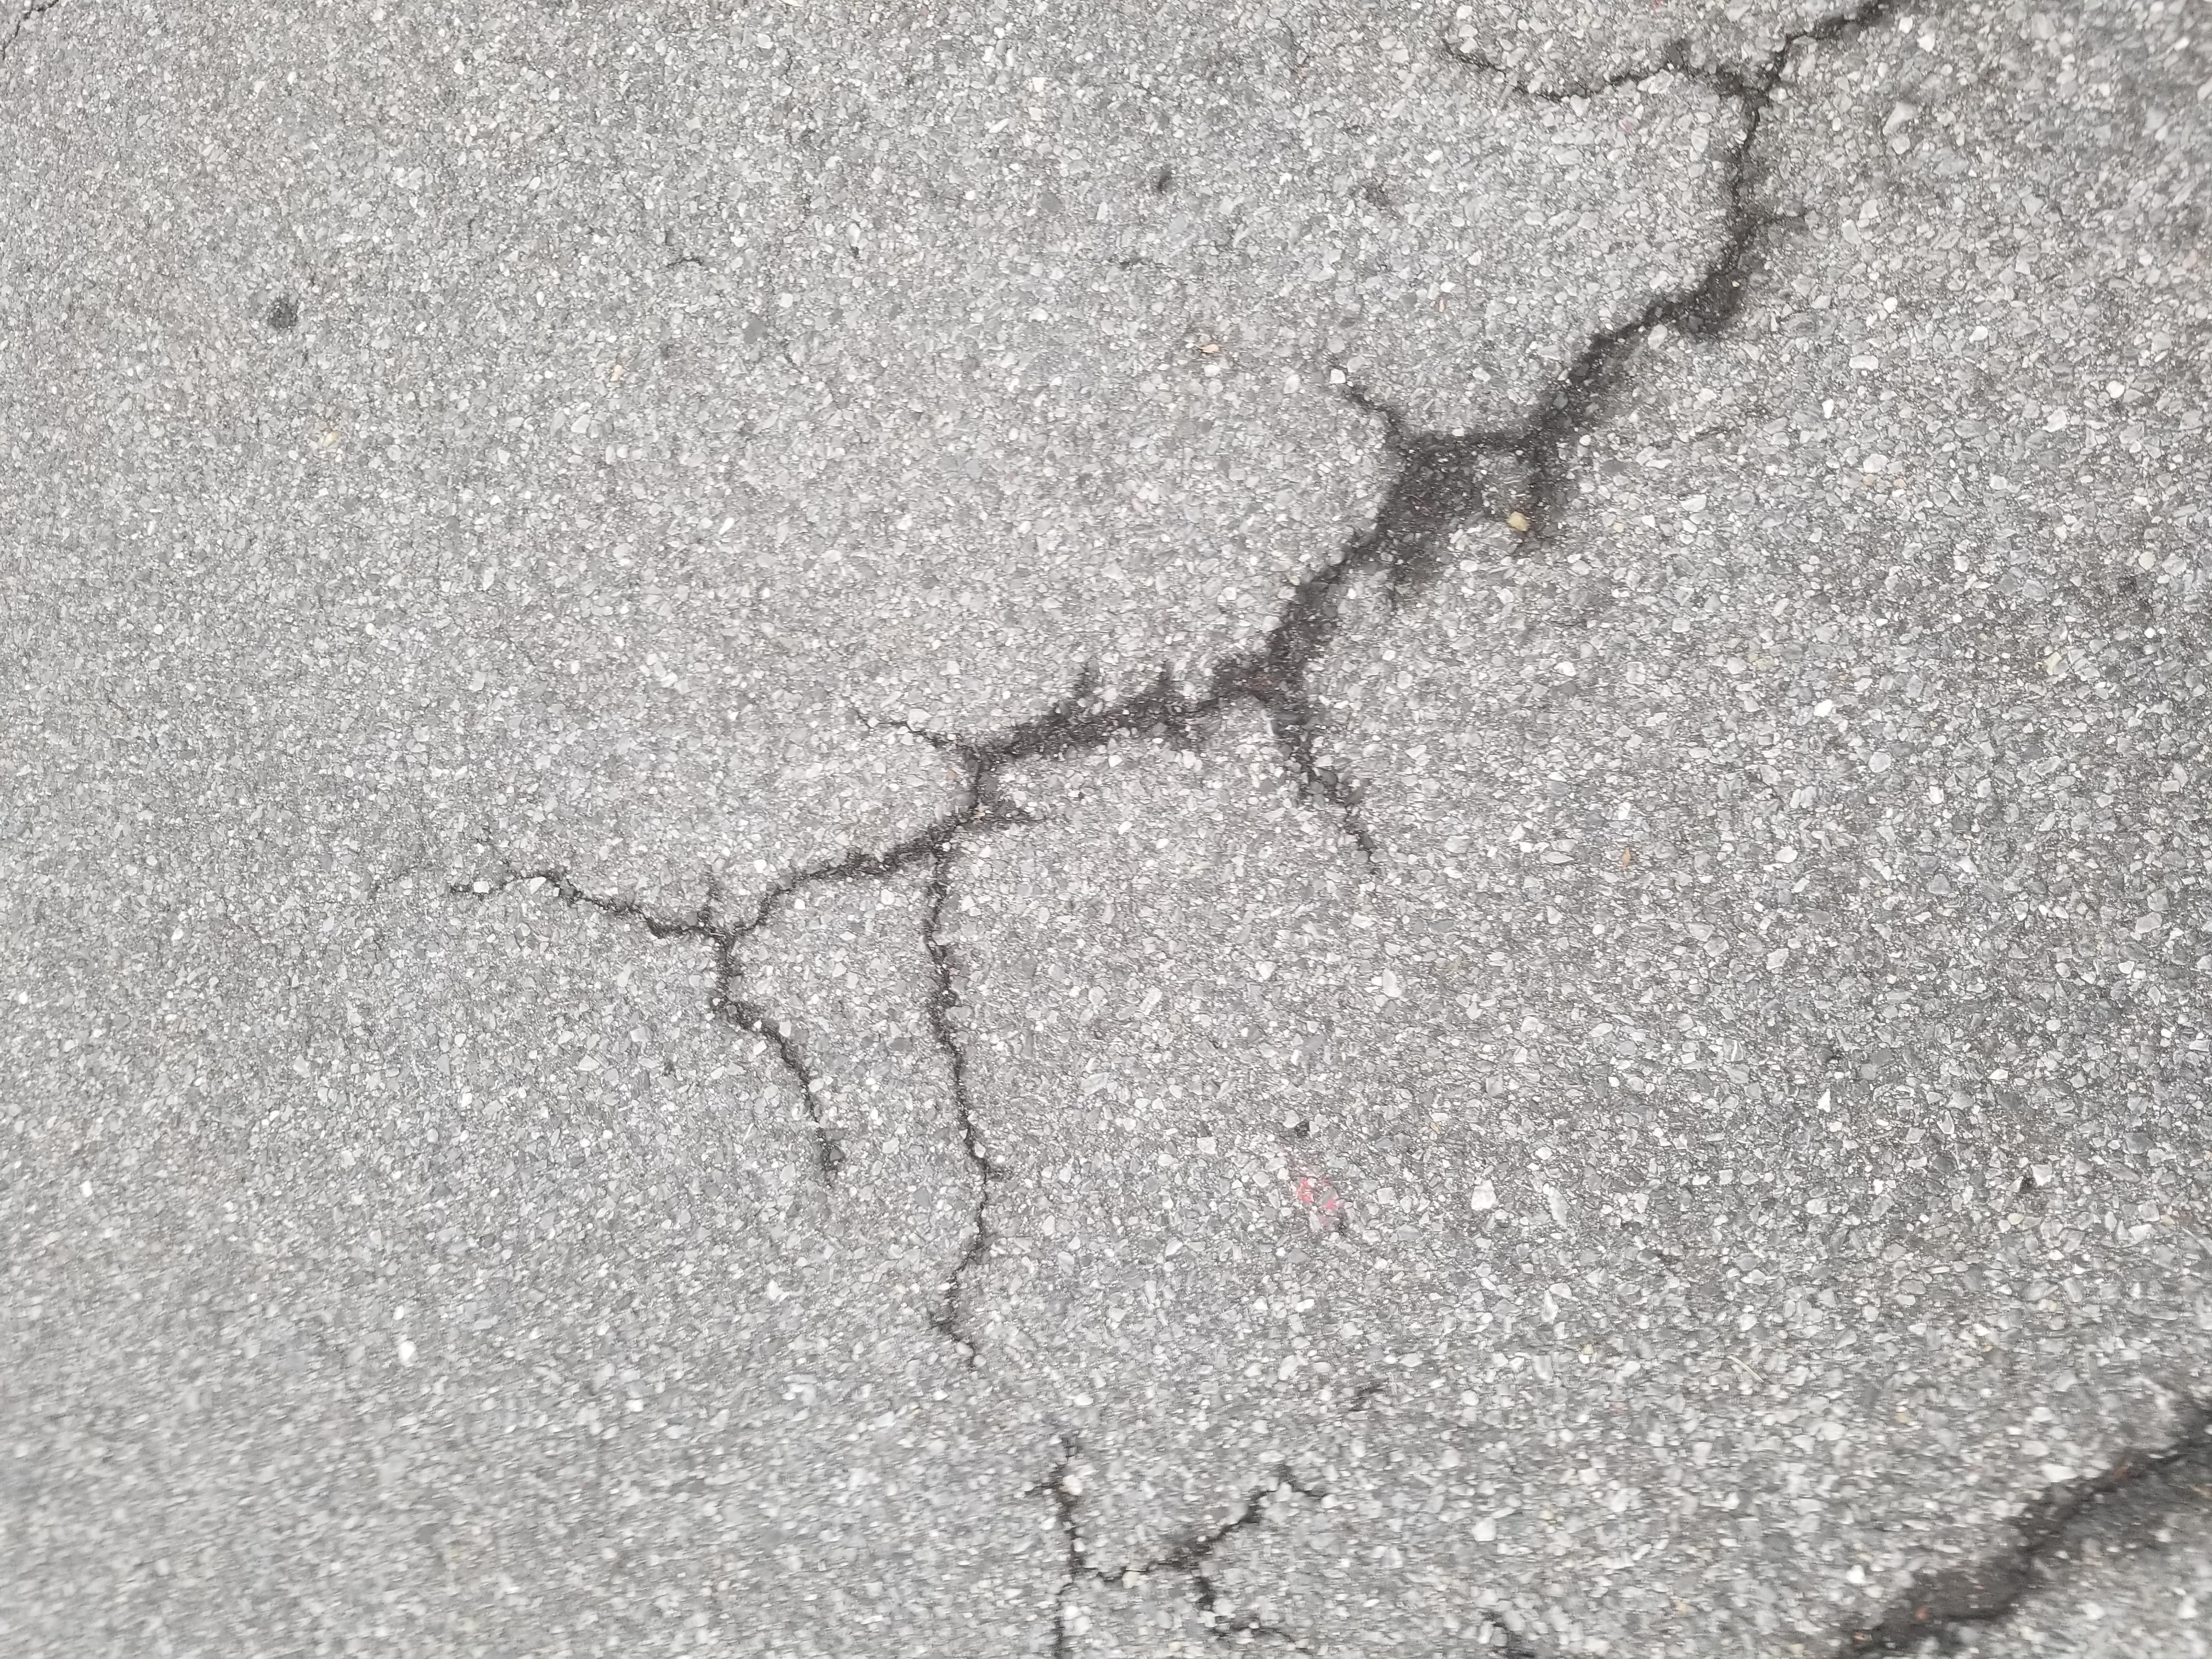crack: (395, 408, 2212, 1439), (0, 1300, 336, 1659), (0, 737, 303, 1035)
